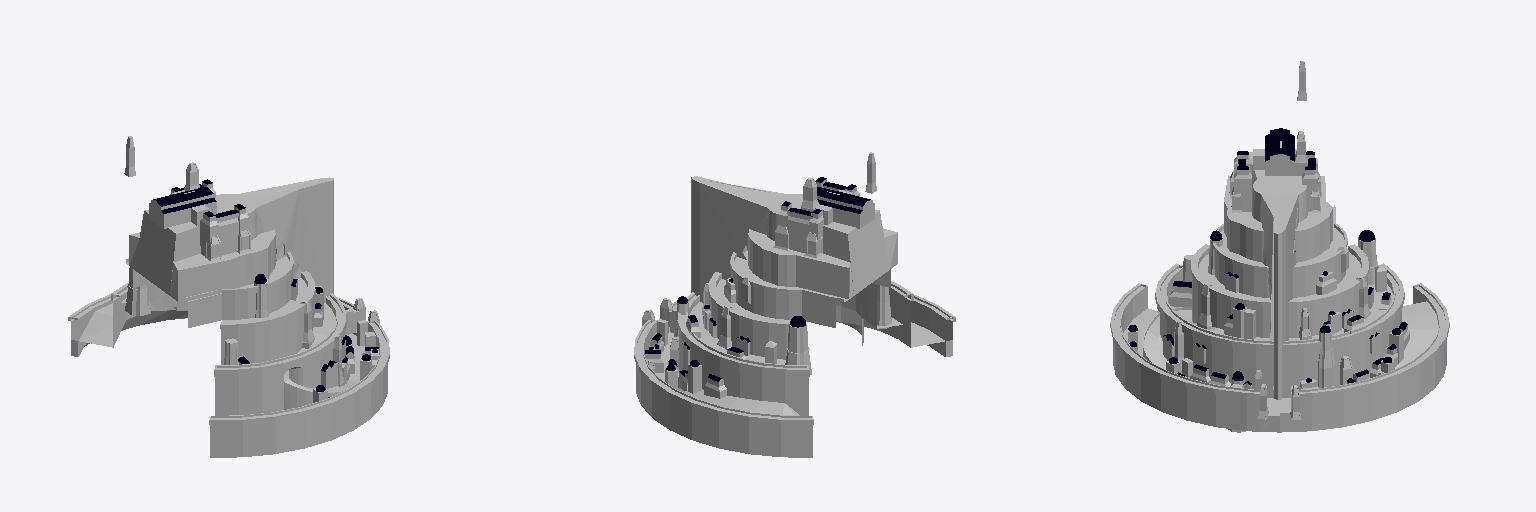
File: minas1.obj
3 views of the same model, side by side, from view 1: azimuth 30°, elevation 25°; view 2: azimuth 150°, elevation 25°; view 3: azimuth 270°, elevation 25° (orthographic).
Visible parts, largest first — view 1: Minas_Tirith; view 2: Minas_Tirith; view 3: Minas_Tirith.
Boxes of the visible parts, <box> form: Minas_Tirith: <box>68,136,389,457</box>; Minas_Tirith: <box>634,152,955,457</box>; Minas_Tirith: <box>1110,61,1449,432</box>.
Size of the model in its own units: 1.9 by 2.13 by 2.36.